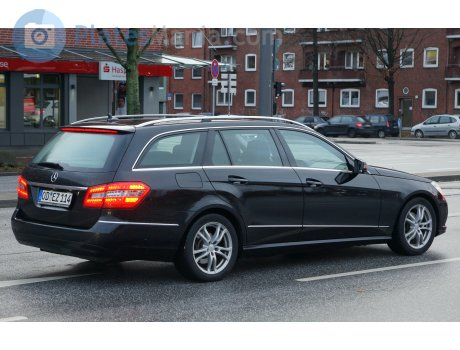License Plates: (38, 185, 74, 202)
